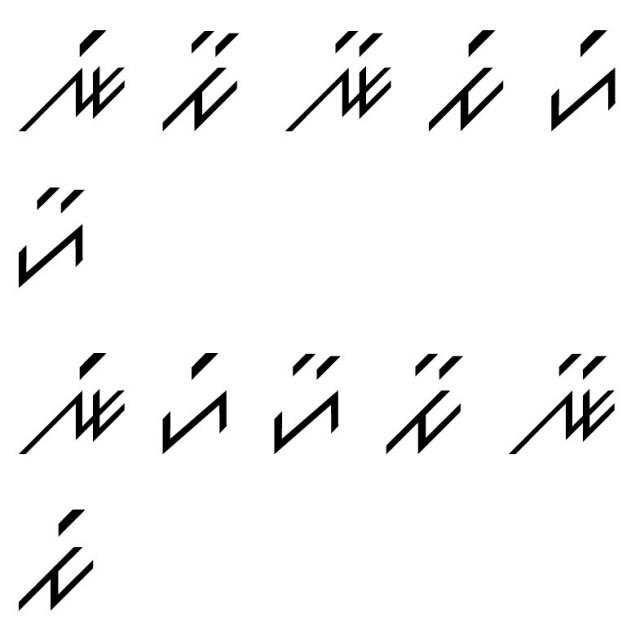han: (4, 182, 103, 297), (268, 347, 352, 456)
hang: (148, 342, 232, 462), (537, 26, 623, 139)
mban: (376, 339, 470, 464), (157, 28, 242, 144)
mbang: (420, 22, 509, 144), (15, 505, 97, 623)
ndan: (281, 19, 399, 135), (502, 344, 620, 459)
ndang: (18, 21, 127, 139), (20, 350, 128, 464)
